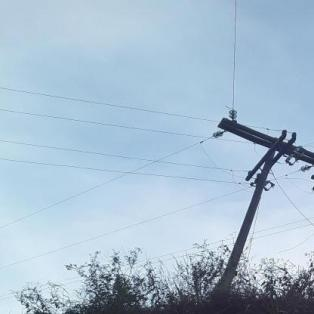Poste: (195, 142, 283, 314)
